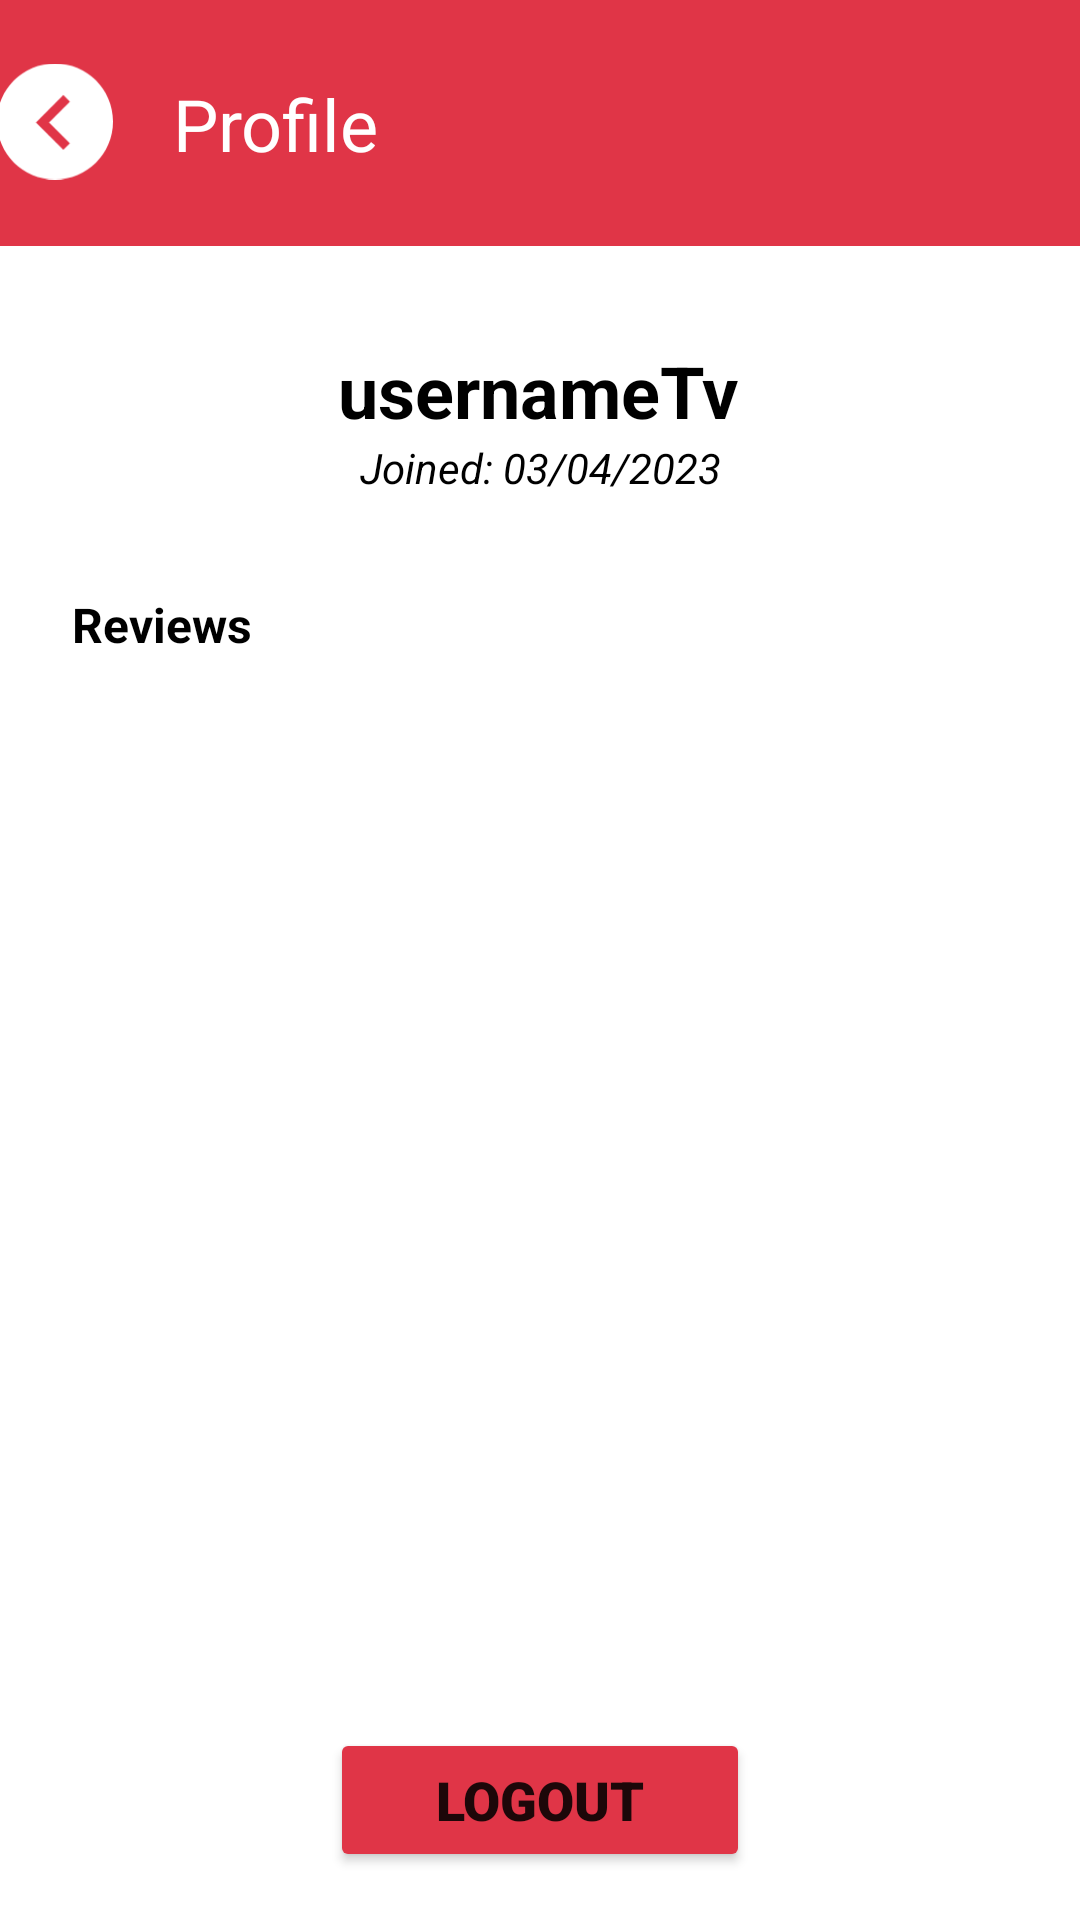

Named icons in this screenshot (1080px x 1920px) and their centers, [x,y]:
back: [56,122]
